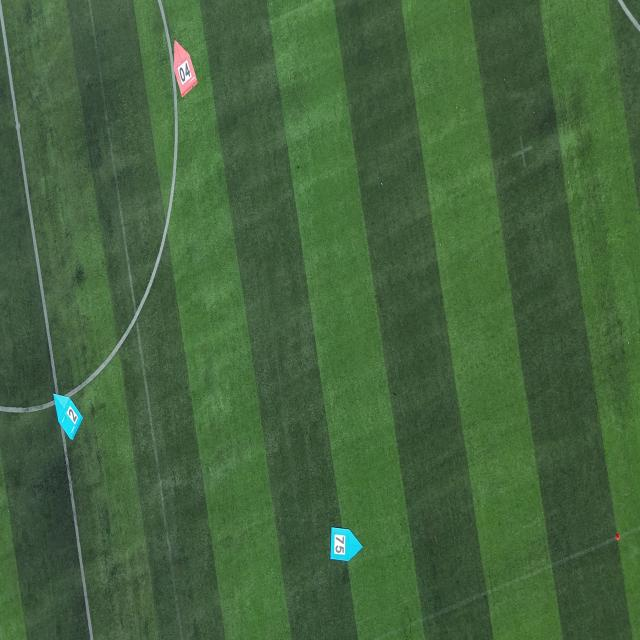board: (173, 39, 198, 99), (53, 393, 84, 441), (330, 528, 363, 561)
